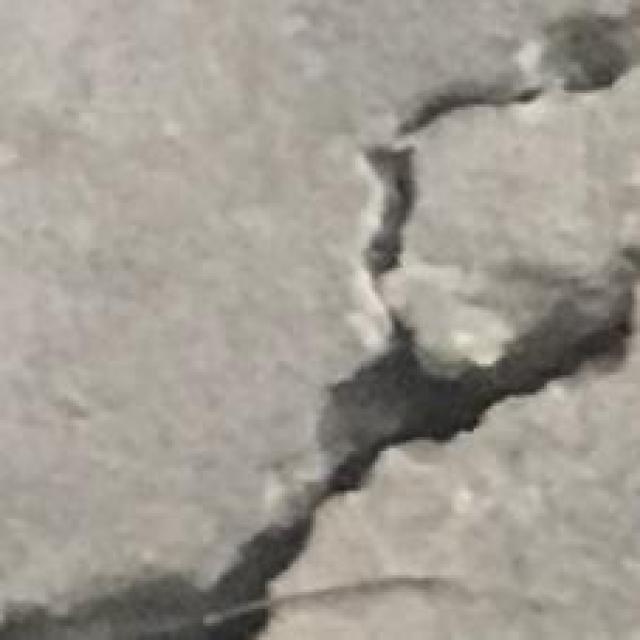Crack: (364, 0, 634, 423), (0, 417, 482, 640)
